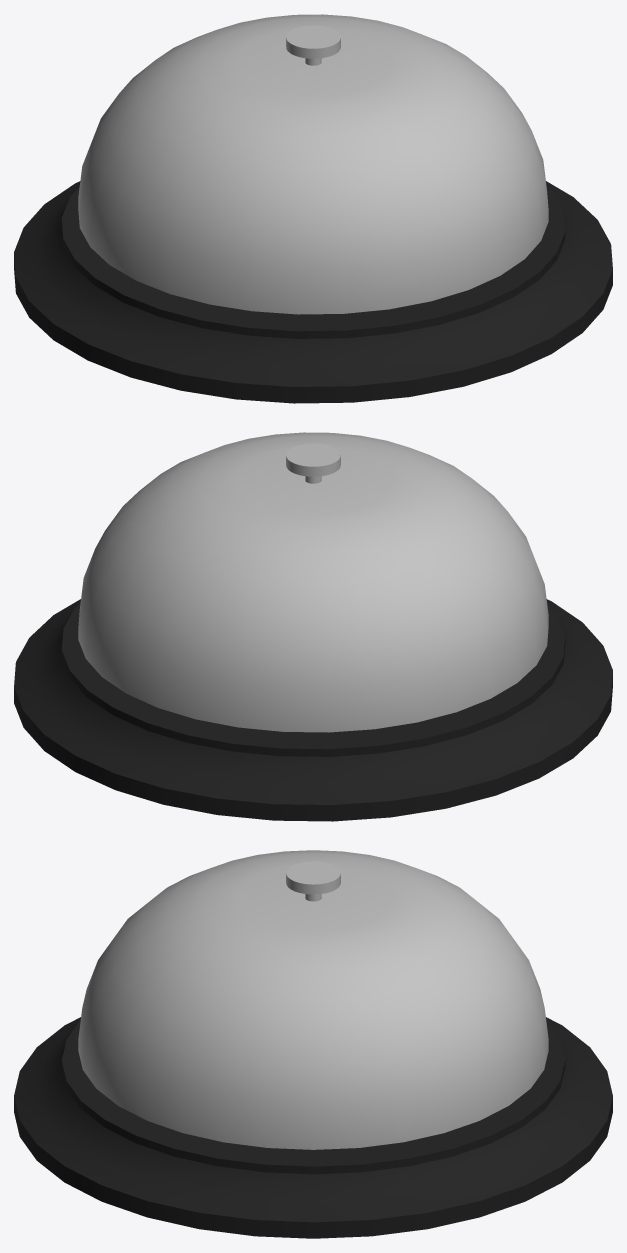
The model's file is bellhop_bell.gltf.
3 renders of one model, top to bottom at view 1: azimuth 30°, elevation 25°; view 2: azimuth 150°, elevation 25°; view 3: azimuth 270°, elevation 25°, orthographic.
Parts seen in each view (by area): view 1: Circle.2411; view 2: Circle.2411; view 3: Circle.2411.
Boxes of the visible parts, x1,y1,x2,y2 form: Circle.2411: (14,14,612,403); Circle.2411: (14,432,612,821); Circle.2411: (14,850,612,1238).
Bounding box in the file's own units: 2.39 × 1.05 × 2.39.
1 material, 1 textured.
